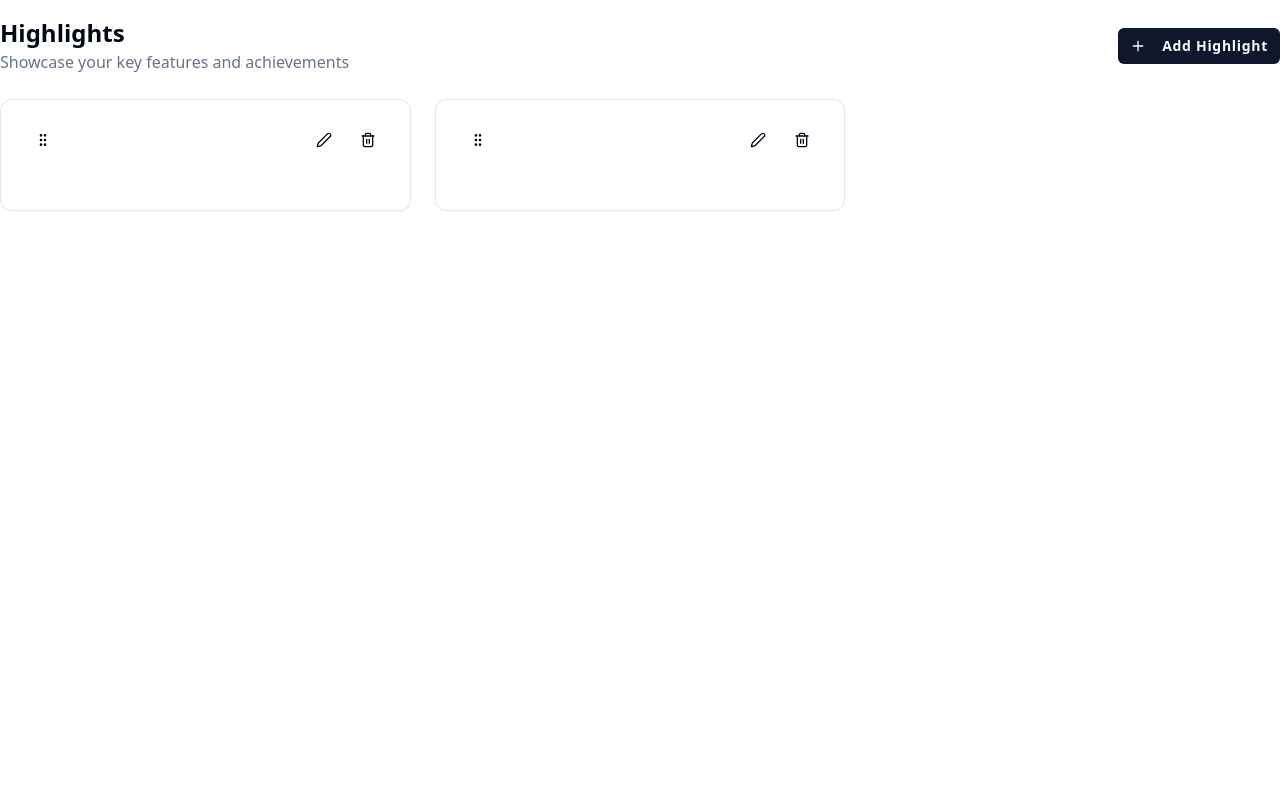
Test: Highlights CRUD Operations › UI State Management › should close dialog after successful creation
Click the button "Add Highlight" at (1199, 46), box [1118,28,1279,64]
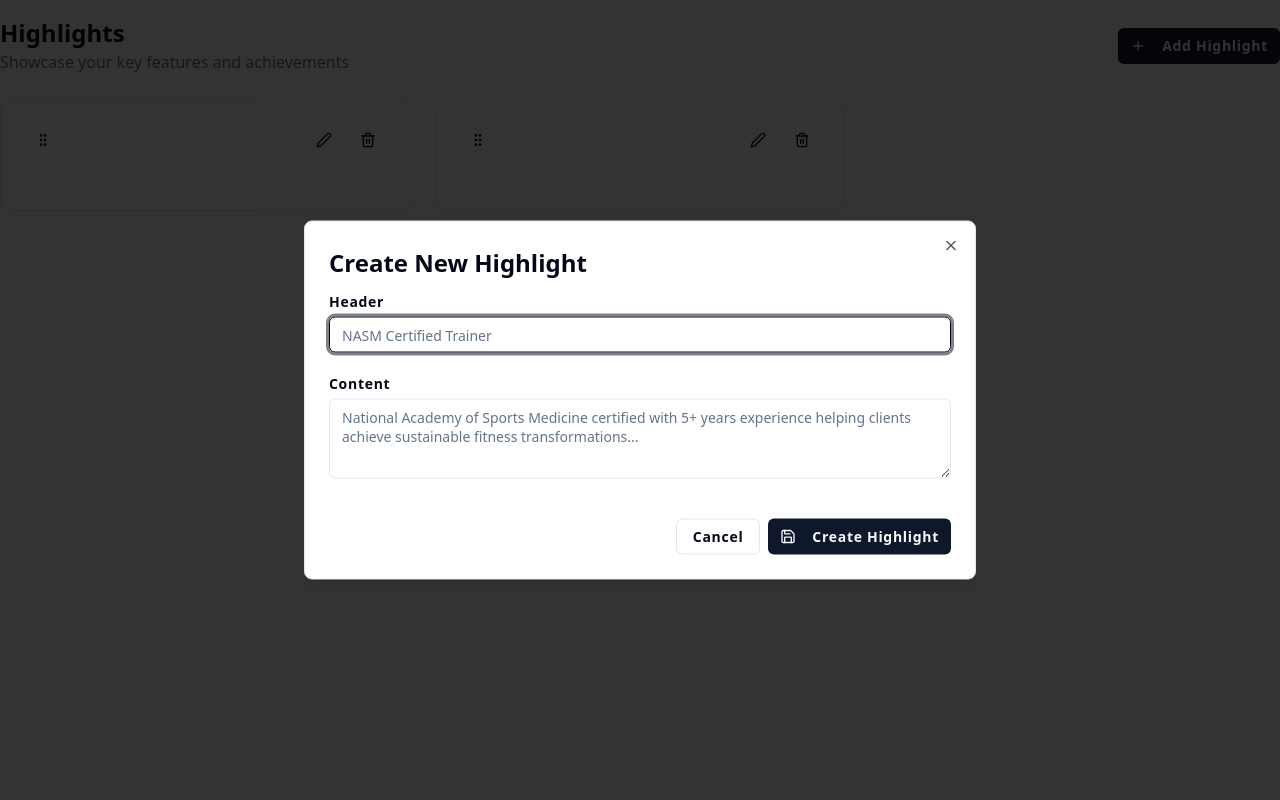
Result: the heading "Create New Highlight" is shown at [329,246,587,278]
Submit the form, box [329,294,951,554]
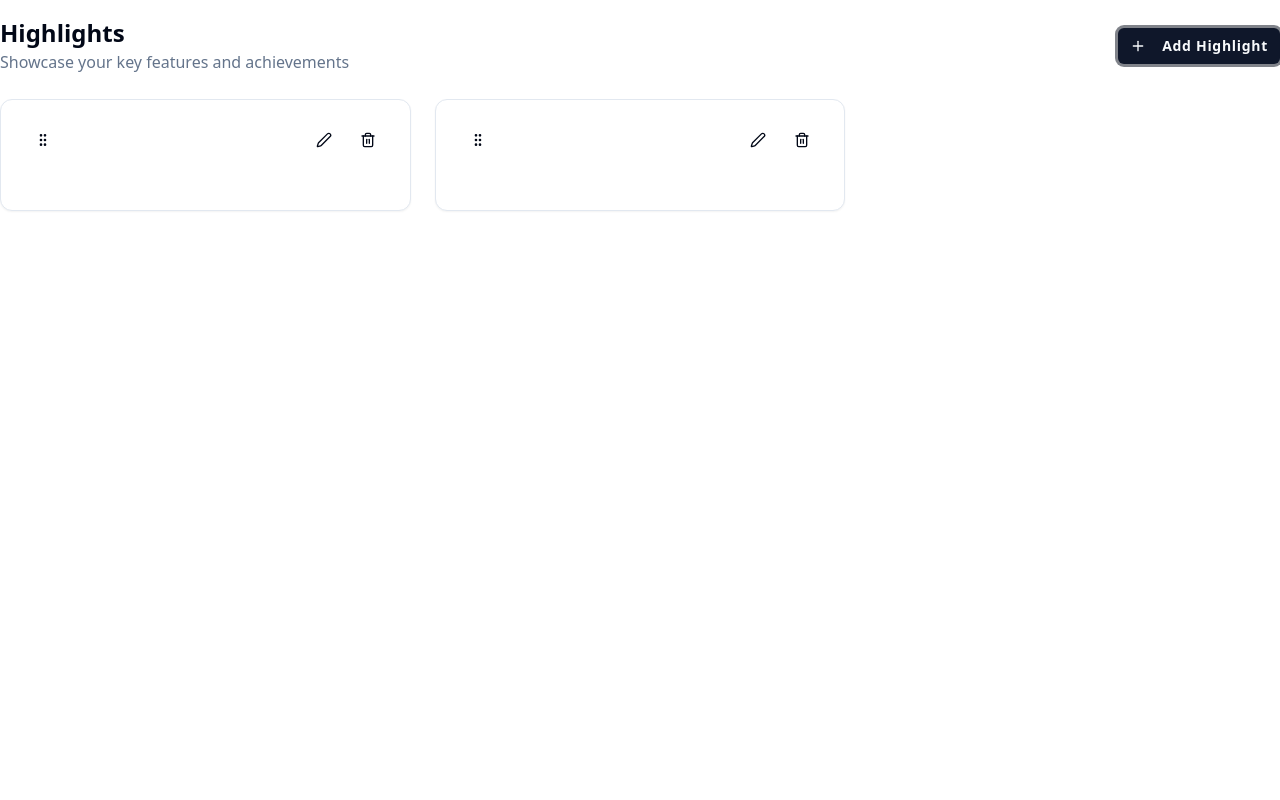
Result: the heading "Create New Highlight" is gone
